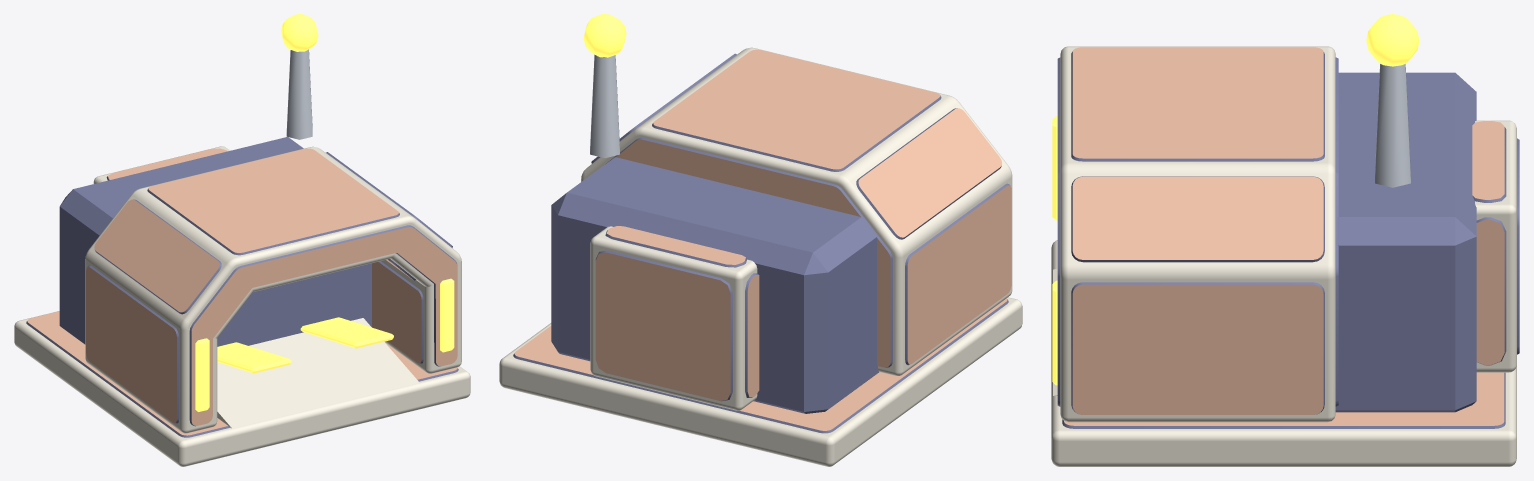
File: R4X_GroundDroneDeployer.fbx
The picture shows the model from 3 angles, left to right: view 1: azimuth 30°, elevation 25°; view 2: azimuth 150°, elevation 25°; view 3: azimuth 270°, elevation 25°; orthographic projection. The views are drawn at different scales.
Visible parts, largest first — view 1: R4X_GroundDroneDeployer_Body; view 2: R4X_GroundDroneDeployer_Body; view 3: R4X_GroundDroneDeployer_Body.
Part boxes in pixels (left/top/right/bottom): R4X_GroundDroneDeployer_Body: left=14, top=14, right=470, bottom=466; R4X_GroundDroneDeployer_Body: left=499, top=14, right=1022, bottom=466; R4X_GroundDroneDeployer_Body: left=1051, top=14, right=1519, bottom=466.
Bounding box in the file's own units: 0.514 × 0.5145 × 0.517.
